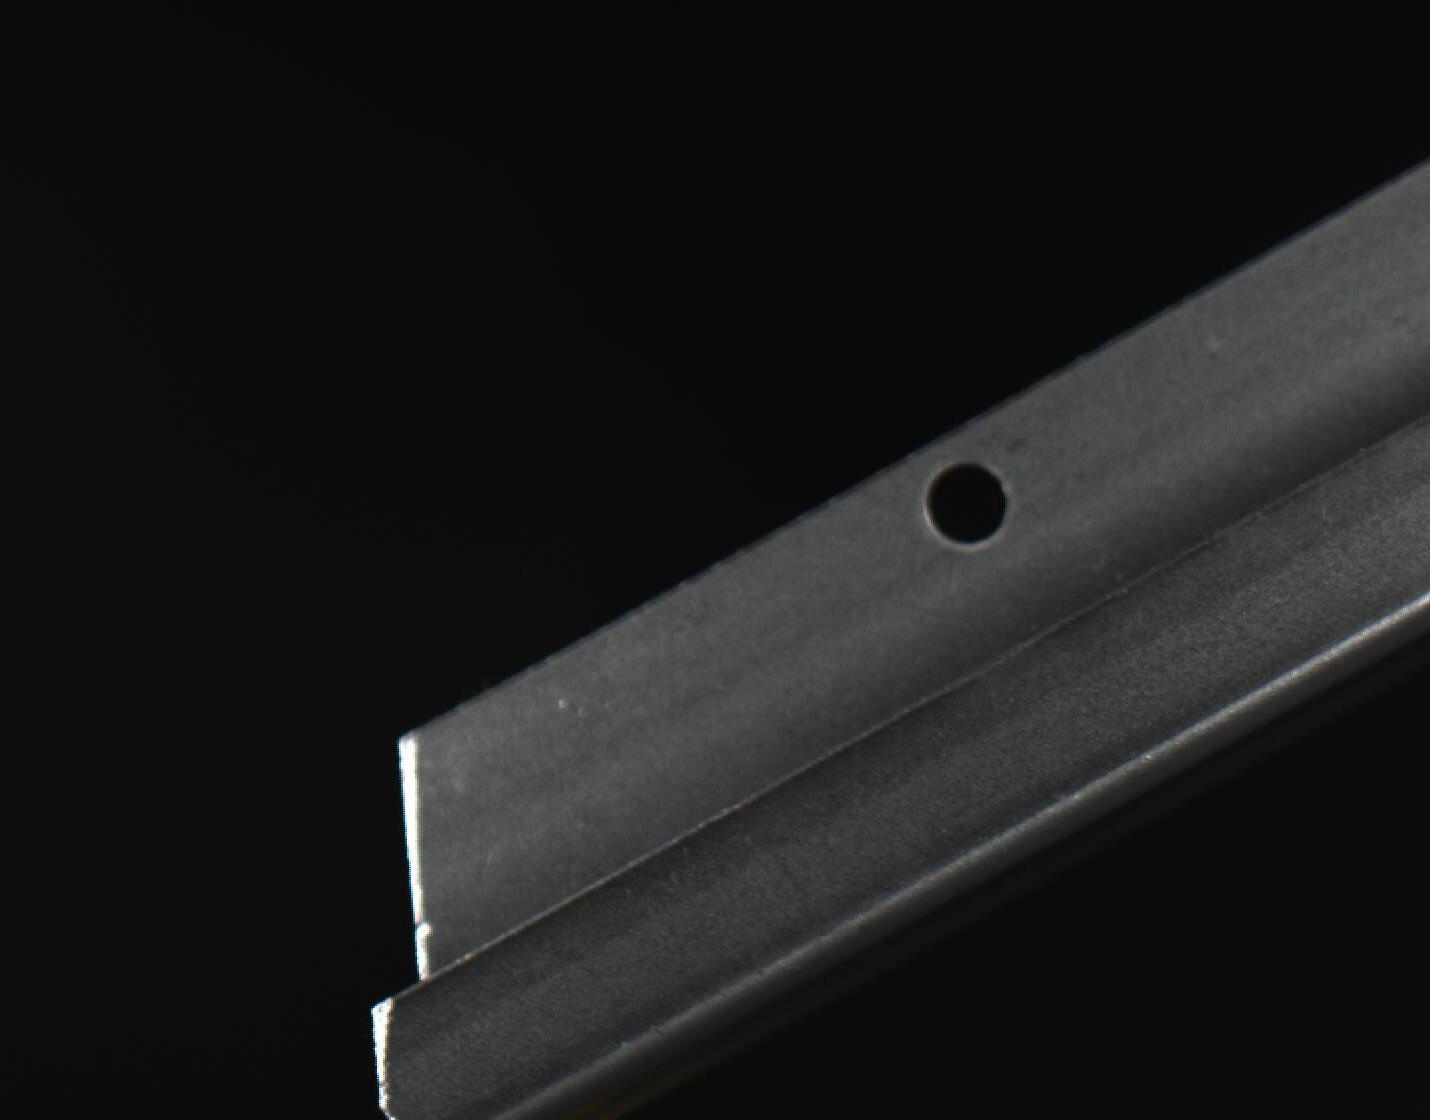cut: (319, 634, 803, 1115)
holes: (922, 458, 1014, 549)
